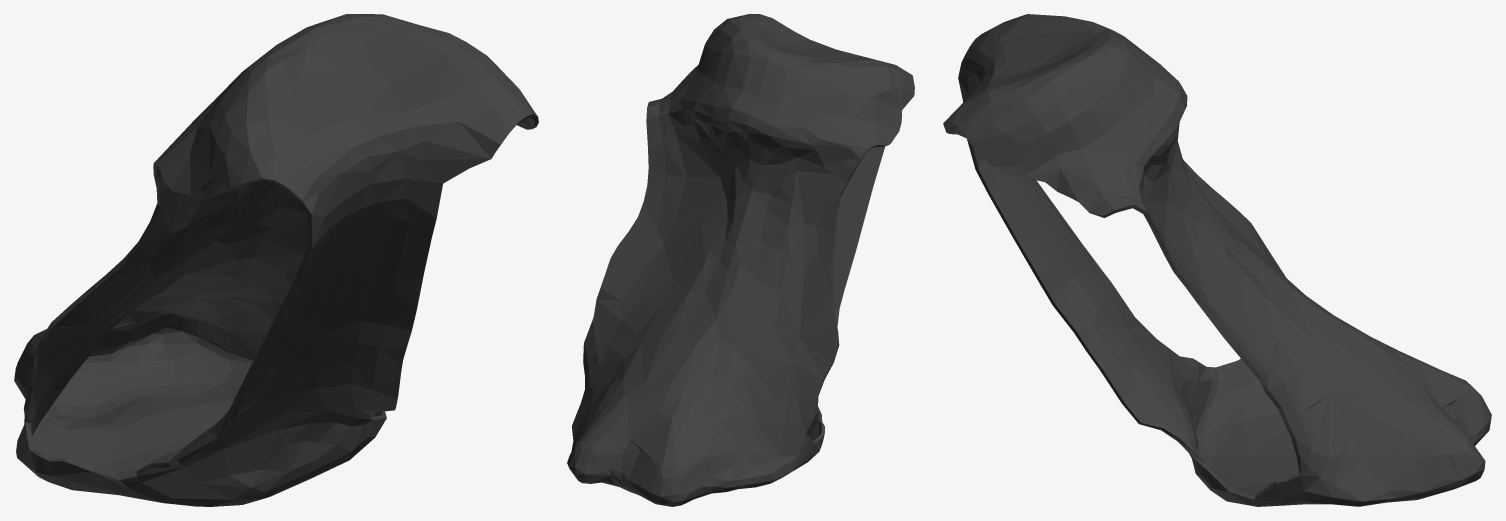
The model's file is c5_body.glb.
3 renders of one model, left to right at view 1: azimuth 30°, elevation 25°; view 2: azimuth 150°, elevation 25°; view 3: azimuth 270°, elevation 25°, orthographic. The views are drawn at different scales.
Visible parts, largest first — view 1: c5_body; view 2: c5_body; view 3: c5_body.
Part boxes in pixels (box(x1,y1,x2,y2)): c5_body: box(14, 14, 538, 506); c5_body: box(567, 14, 914, 506); c5_body: box(943, 14, 1491, 506).
Size of the model in its own units: 19.37 by 26.28 by 29.77.
Materials: 1 (1 with a texture image).
